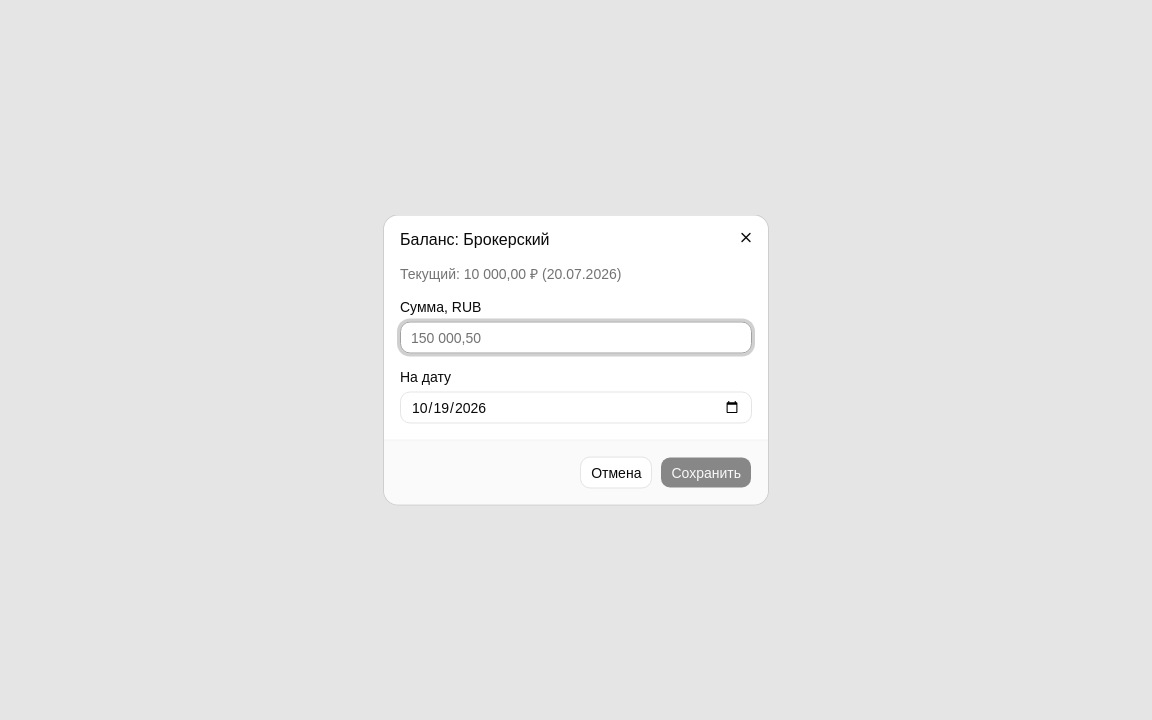
BalanceDialog: a sum too large to record › does not send it, and says it is too large rather than unreadable
In the field labelled "Сумма, RUB": (576, 338) [400, 322, 752, 354], type "10000000000000,01"
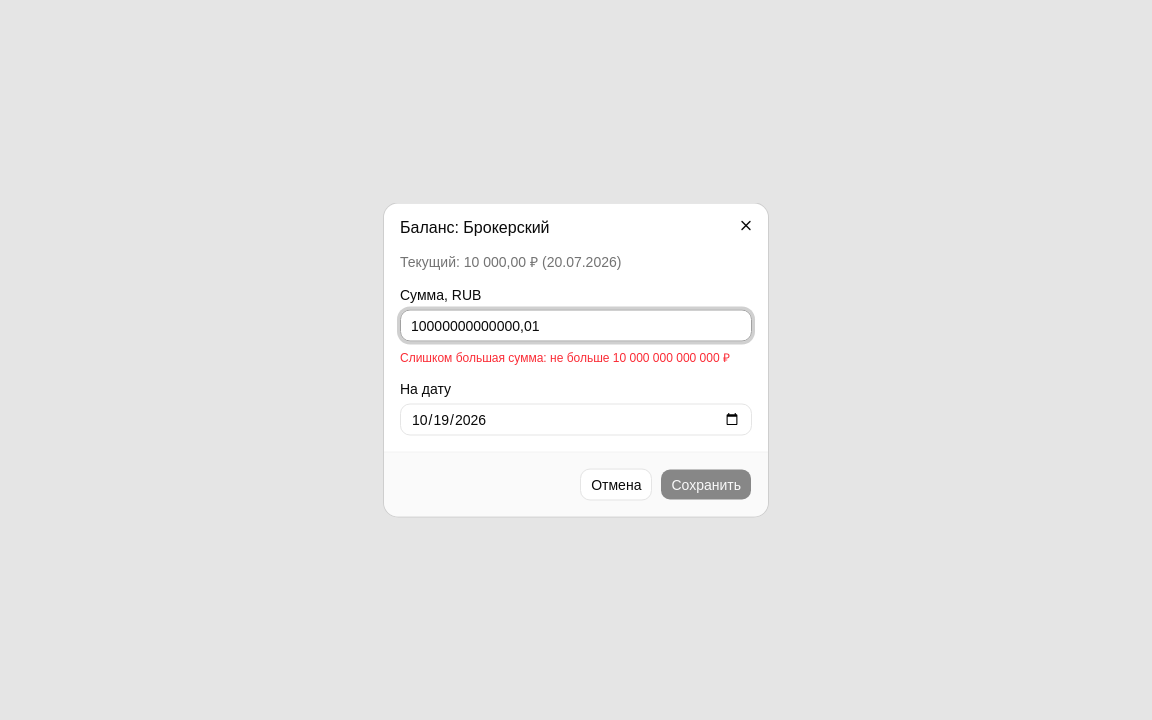
Expected: the button "Сохранить" is disabled, [660, 468, 752, 500]
Now the text "Слишком большая сумма: не больше 10 000 000 000 000 ₽" is shown, box [400, 350, 752, 366]
